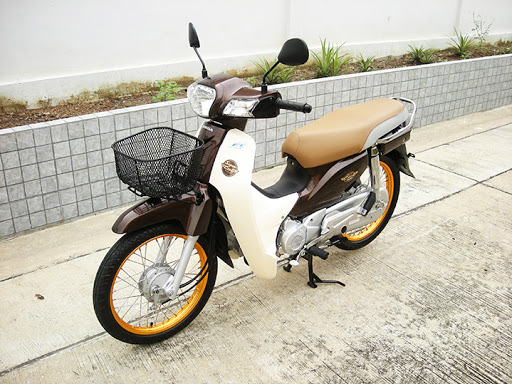motorcycle: (92, 21, 419, 348)
